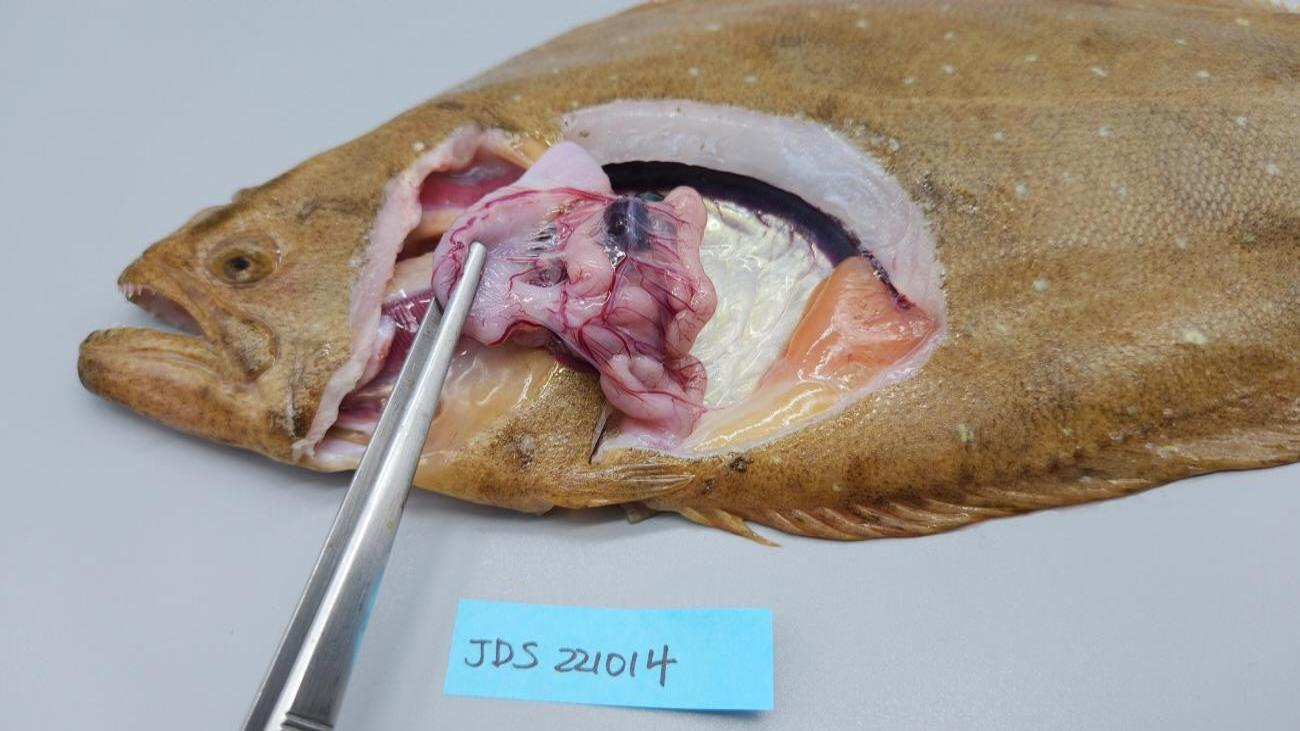POINN: (561, 187, 717, 450)
POSPN: (606, 197, 650, 252)
